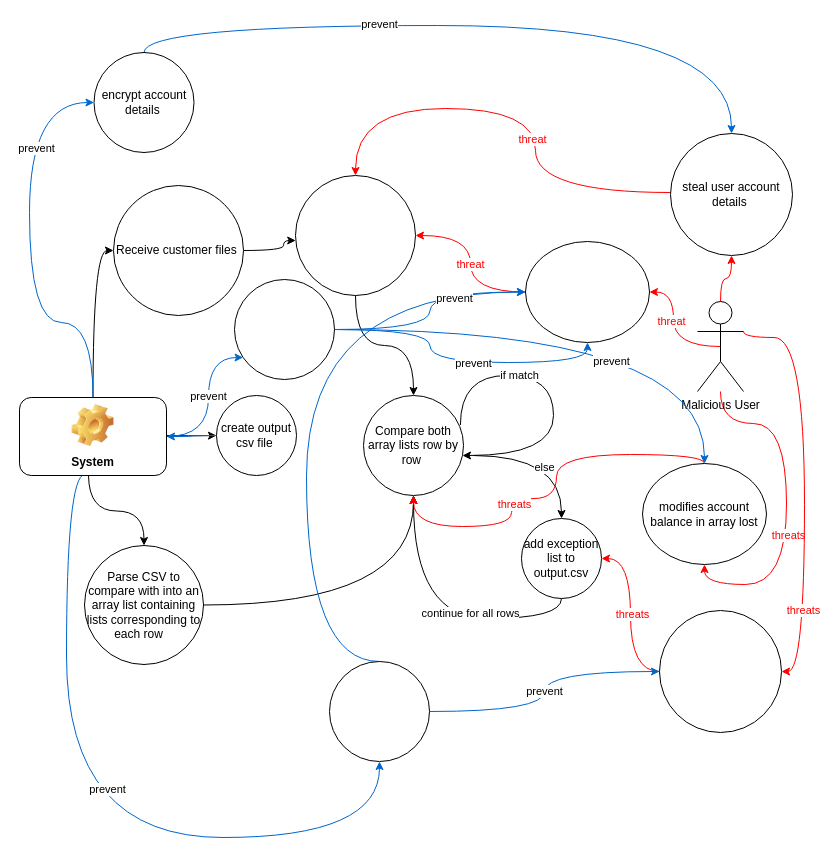
The diagram is 837 pixels wide and 855 high, and some of its shapes have lost their labels. The shapes that lost their labels are listed below. From the top down, each one's centre as x and y in pixels, then its label:
point (355, 235): Parse CSV into array list containing lists corresponding to each row
point (587, 291): blocks parsing csv to array list
point (284, 329): ip check
point (720, 671): manipulate adding malicious content to output.csv
point (379, 711): periodic network scan
